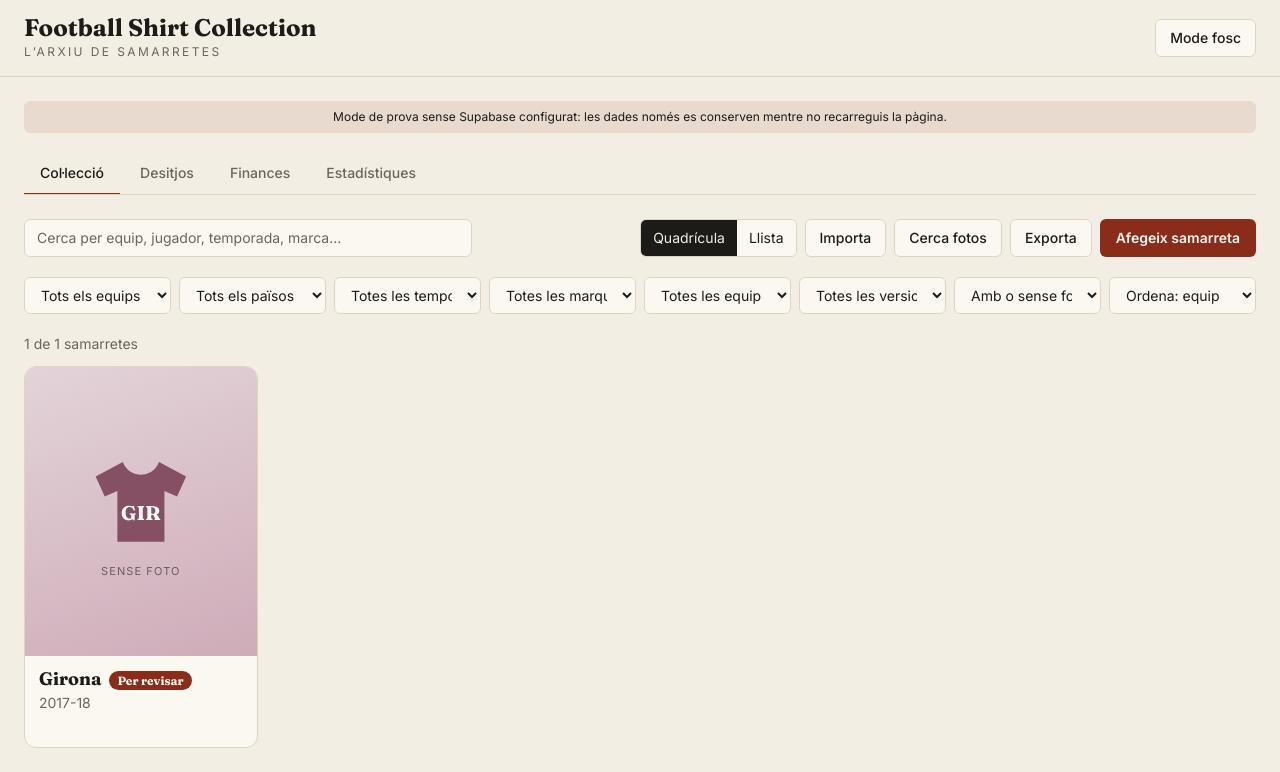
Test: Fotos › obre el diàleg de cerca per lots i explica que no assigna res
Click the button "Cerca fotos": (948, 238) [894, 219, 1002, 257]
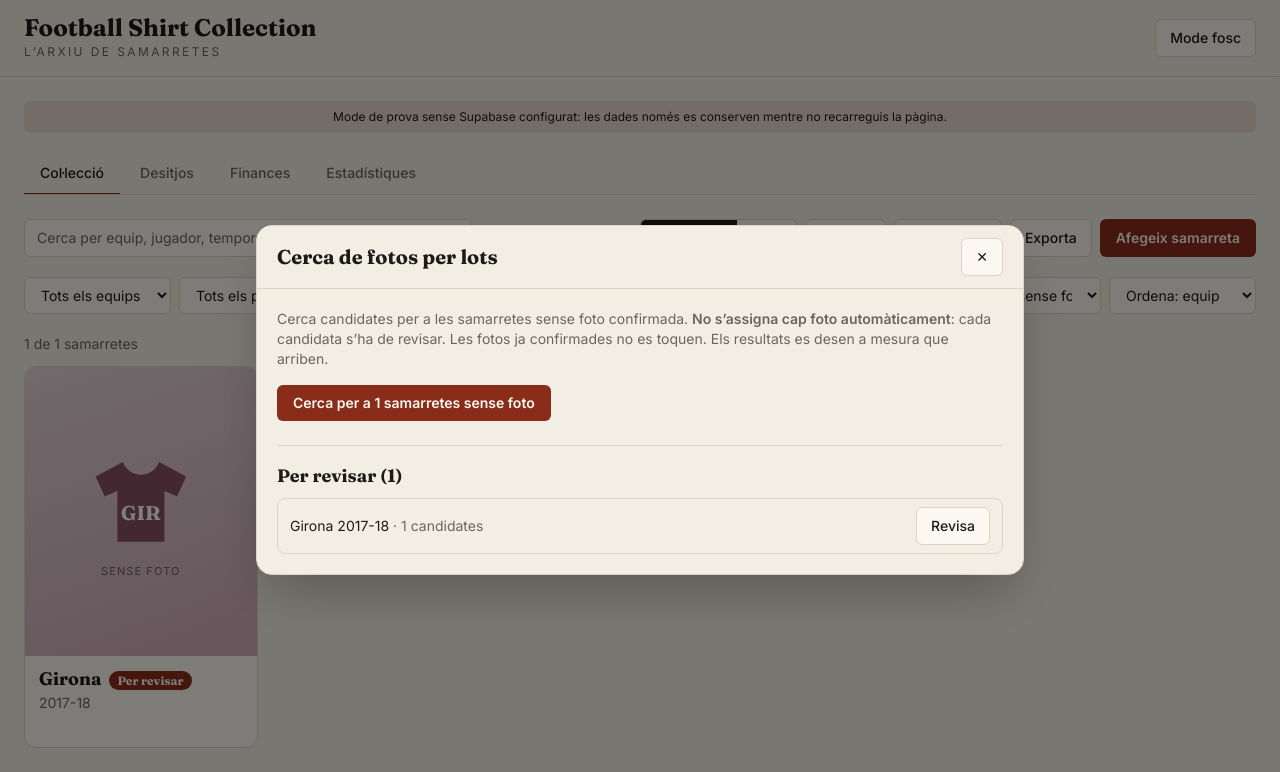
Expected: the text "No s’assigna cap foto automàticament" is shown, [692, 310, 951, 327]
Expected: the button "Cerca per a 1 samarretes sense foto" is shown, [277, 385, 551, 421]
Expected: the heading "Per revisar (1)" is shown, [277, 464, 403, 487]
